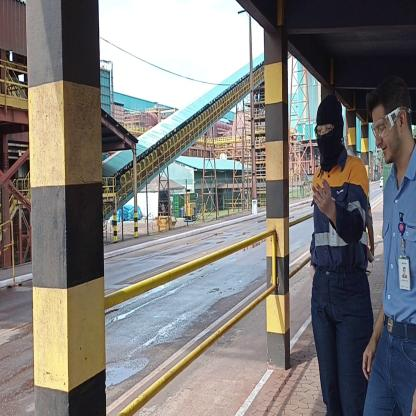Balaclava: (312, 93, 346, 167)
Operacional: (310, 165, 370, 266)
